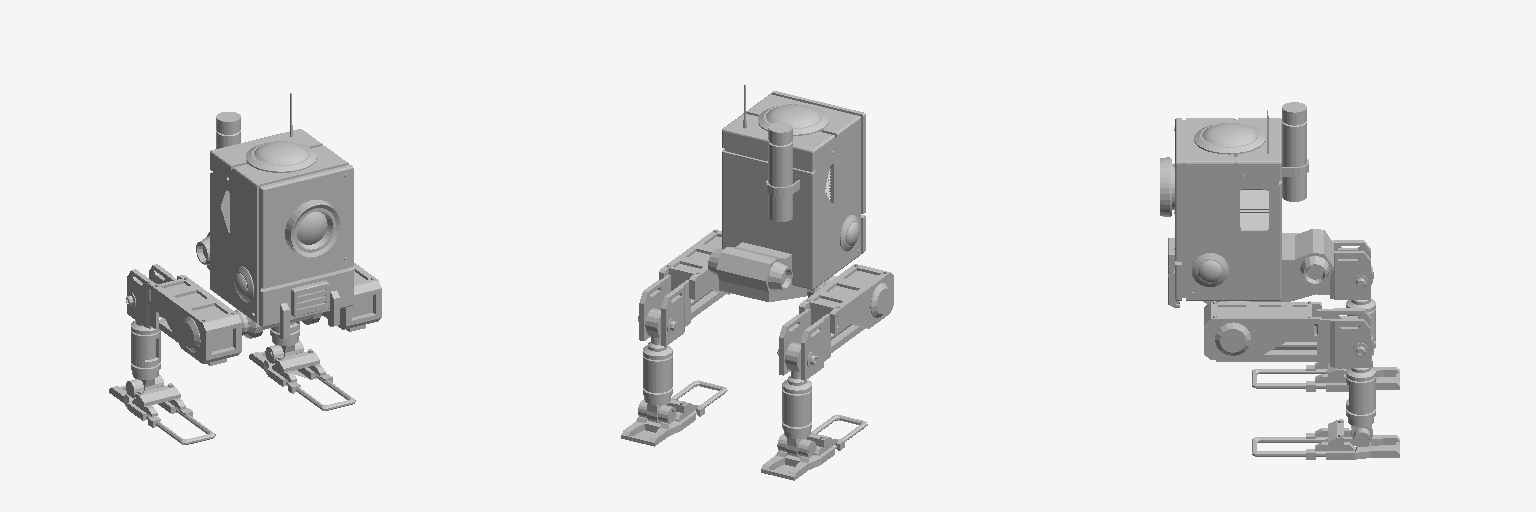
The model's file is RIGING_MODEL_04.obj.
3 views of the same model, side by side, from view 1: azimuth 30°, elevation 25°; view 2: azimuth 150°, elevation 25°; view 3: azimuth 270°, elevation 25° (orthographic).
Visible parts, largest first — view 1: 16_Cube.002, 6_Cube.003, HAL_9000__Cube.014, 2_Cube.016, 1_Cube.017, 9_Cube.005, 8_Cube.004, 13_Cube.009, 15_Cube.015, 14_Cube.010, 3_Cube.011, 4_Cube.013; view 2: 16_Cube.002, 6_Cube.003, 9_Cube.005, 10_Cube.006, 8_Cube.004, 1_Cube.017, 2_Cube.016, 14_Cube.010, 13_Cube.009; view 3: 16_Cube.002, 8_Cube.004, 10_Cube.006, 2_Cube.016, 9_Cube.005, 14_Cube.010, 1_Cube.017, HAL_9000__Cube.014, 4_Cube.013, 3_Cube.011.
Boxes of the visible parts, x1=… form: 16_Cube.002: x1=196, y1=93, x2=353, y2=338; 6_Cube.003: x1=147, y1=275, x2=241, y2=363; HAL_9000__Cube.014: x1=285, y1=200, x2=340, y2=257; 2_Cube.016: x1=249, y1=340, x2=332, y2=393; 1_Cube.017: x1=109, y1=374, x2=192, y2=427; 9_Cube.005: x1=126, y1=264, x2=226, y2=365; 8_Cube.004: x1=324, y1=263, x2=381, y2=329; 13_Cube.009: x1=131, y1=320, x2=160, y2=390; 15_Cube.015: x1=278, y1=290, x2=339, y2=338; 14_Cube.010: x1=270, y1=321, x2=299, y2=356; 3_Cube.011: x1=146, y1=408, x2=215, y2=444; 4_Cube.013: x1=286, y1=374, x2=355, y2=410; 16_Cube.002: x1=708, y1=85, x2=865, y2=301; 6_Cube.003: x1=799, y1=264, x2=893, y2=339; 9_Cube.005: x1=777, y1=309, x2=865, y2=380; 10_Cube.006: x1=638, y1=275, x2=725, y2=346; 8_Cube.004: x1=659, y1=229, x2=730, y2=305; 1_Cube.017: x1=761, y1=433, x2=844, y2=480; 2_Cube.016: x1=621, y1=398, x2=704, y2=446; 14_Cube.010: x1=643, y1=342, x2=672, y2=423; 13_Cube.009: x1=782, y1=376, x2=811, y2=457; 16_Cube.002: x1=1168, y1=102, x2=1333, y2=304; 8_Cube.004: x1=1204, y1=301, x2=1321, y2=359; 10_Cube.006: x1=1216, y1=308, x2=1370, y2=367; 2_Cube.016: x1=1306, y1=419, x2=1399, y2=459; 9_Cube.005: x1=1317, y1=240, x2=1370, y2=299; 14_Cube.010: x1=1346, y1=367, x2=1375, y2=439; 1_Cube.017: x1=1306, y1=363, x2=1399, y2=391; HAL_9000__Cube.014: x1=1160, y1=157, x2=1174, y2=216; 4_Cube.013: x1=1252, y1=437, x2=1325, y2=456; 3_Cube.011: x1=1252, y1=369, x2=1325, y2=388.
Bounding box in the file's own units: 0.6095 × 1.01 × 0.6909.